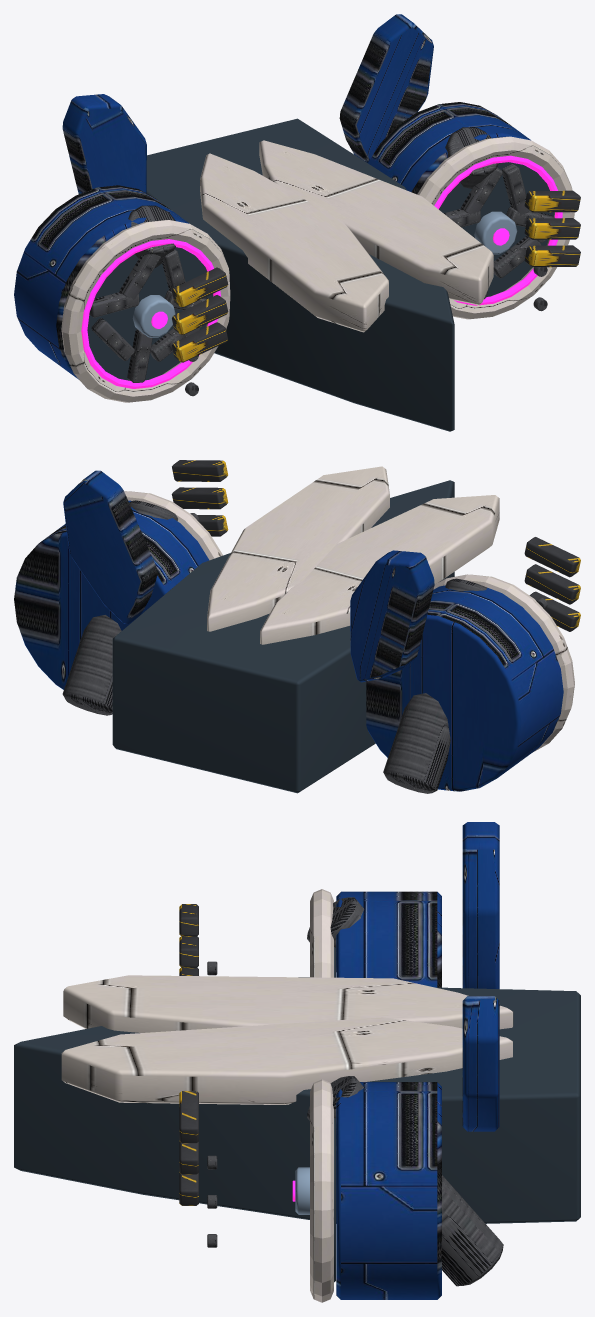
File: sector_01_4.glb
The picture shows the model from 3 angles, top to bottom: view 1: azimuth 30°, elevation 25°; view 2: azimuth 150°, elevation 25°; view 3: azimuth 270°, elevation 25°; orthographic projection. The views are drawn at different scales.
Visible parts, largest first — view 1: Split arrow nose, Pointed interceptor chassis, Swept dorsal vane, Turbine impeller blade, Warning gate, Turbine running light, Turbine hub; view 2: Swept dorsal vane, Pointed interceptor chassis, Split arrow nose, Turbine impeller blade, Warning gate; view 3: Pointed interceptor chassis, Split arrow nose, Swept dorsal vane, Turbine impeller blade, Warning gate, Turbine hub.
Part boxes in pixels (x1=…): Split arrow nose: x1=61, y1=136, x2=574, y2=402; Pointed interceptor chassis: x1=87, y1=118, x2=554, y2=431; Swept dorsal vane: x1=14, y1=14, x2=530, y2=379; Turbine impeller blade: x1=89, y1=127, x2=554, y2=396; Warning gate: x1=172, y1=190, x2=580, y2=362; Turbine running light: x1=81, y1=155, x2=562, y2=388; Turbine hub: x1=132, y1=211, x2=517, y2=337; Swept dorsal vane: x1=14, y1=470, x2=563, y2=791; Pointed interceptor chassis: x1=112, y1=480, x2=454, y2=793; Split arrow nose: x1=124, y1=466, x2=574, y2=751; Turbine impeller blade: x1=62, y1=500, x2=547, y2=793; Warning gate: x1=171, y1=460, x2=580, y2=631; Pointed interceptor chassis: x1=14, y1=947, x2=580, y2=1282; Split arrow nose: x1=61, y1=889, x2=513, y2=1302; Swept dorsal vane: x1=336, y1=822, x2=499, y2=1299; Turbine impeller blade: x1=207, y1=897, x2=503, y2=1286; Warning gate: x1=179, y1=904, x2=198, y2=1205; Turbine hub: x1=295, y1=977, x2=309, y2=1214.
Size of the model in its own units: 1.47 by 0.6893 by 1.23.
8 materials, 4 textured.
